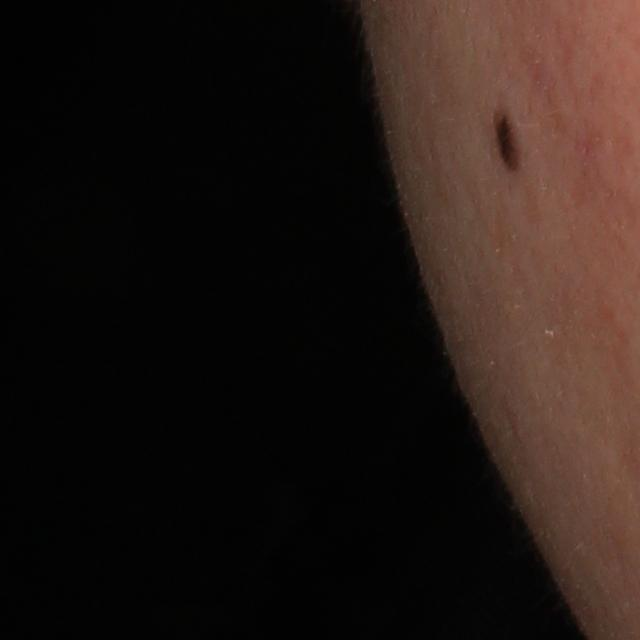nevus: (489, 106, 528, 175)
